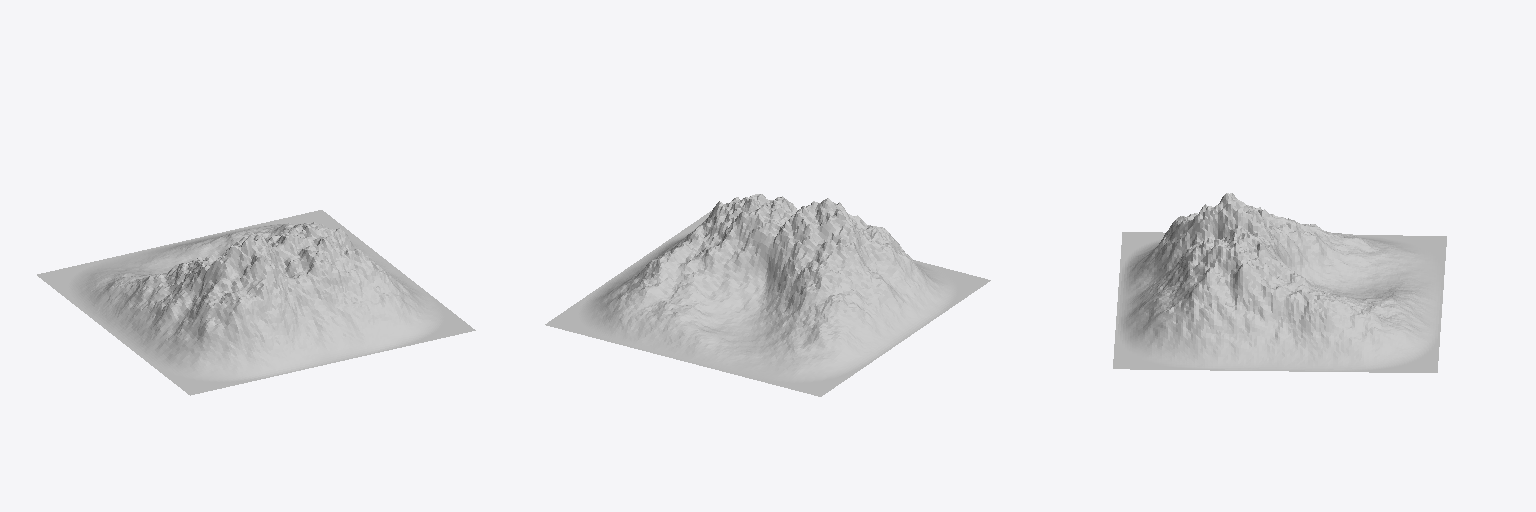
The model's file is Landscape2.obj.
3 renders of one model, left to right at view 1: azimuth 30°, elevation 25°; view 2: azimuth 150°, elevation 25°; view 3: azimuth 270°, elevation 25°, orthographic.
Parts seen in each view (by area): view 1: Landscape; view 2: Landscape; view 3: Landscape.
Boxes of the visible parts, x1=… form: Landscape: x1=37, y1=210, x2=475, y2=395; Landscape: x1=545, y1=194, x2=990, y2=396; Landscape: x1=1113, y1=193, x2=1446, y2=372.
Size of the model in its own units: 1642 by 506 by 1642.